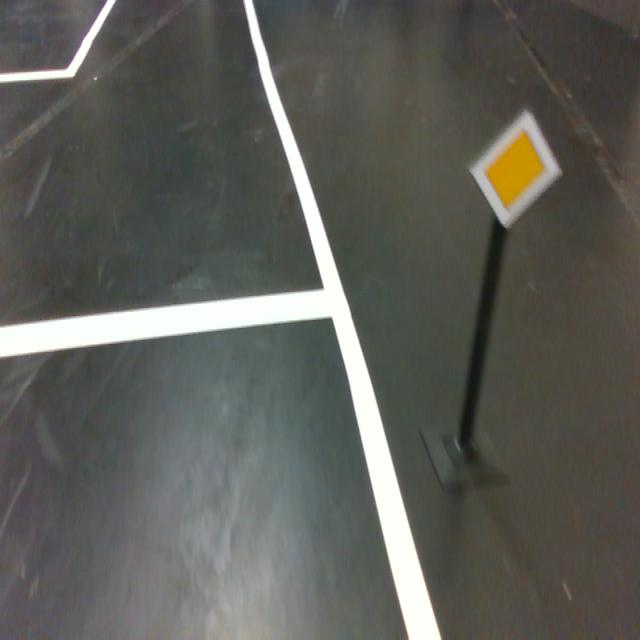priority-sign: (467, 108, 563, 230)
